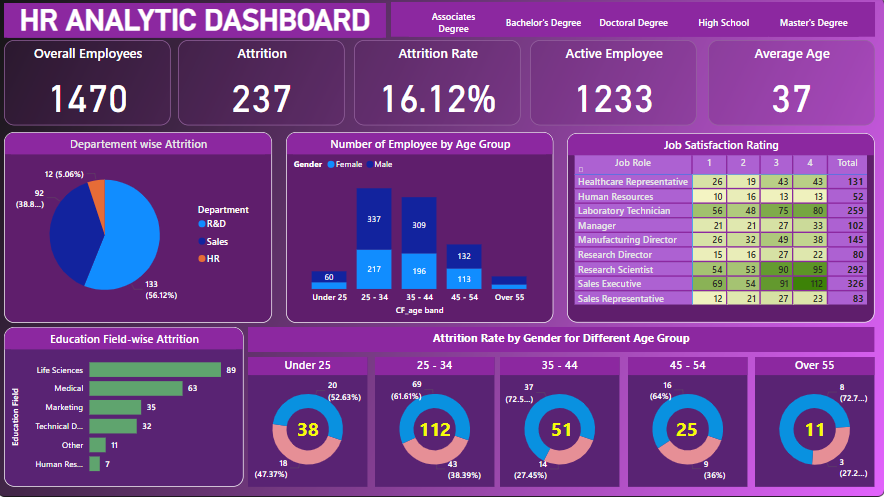

The dashboard page shown, as its layout file describes it:
{"tool":"powerbi","page":{"name":"Page 2","canvas":[1280,720],"ordinal":0},"visuals":[{"type":"cardVisual","title":"Overall Employees","fields":{"Data":["Sum(Table1.Employee Count)"]},"box":[10,61.2,240,122.5],"z":0},{"type":"cardVisual","title":"Attrition","fields":{"Data":["Sum(Table1.Attrition Count)"]},"box":[261.2,61.2,240,122.5],"z":1000},{"type":"cardVisual","title":"Attrition Rate","fields":{"Data":["Table1.Attrition Rate"]},"box":[513.8,61.2,240,122.5],"z":2000},{"type":"cardVisual","title":"Active Employee","fields":{"Data":["Sum(Table1. Active Employee)"]},"box":[767.5,61.2,240,122.5],"z":3000},{"type":"cardVisual","title":"Average Age","fields":{"Data":["Avg(Table1.Age)"]},"box":[1023.8,61.2,240,122.5],"z":4000},{"type":"pieChart","title":"Departement wise Attrition","fields":{"Category":["Table1.Department"],"Y":["Sum(Table1.Attrition Count)"]},"box":[10,194,386,275],"z":5000},{"type":"columnChart","title":"Number of Employee by Age Group","fields":{"Category":["Table1.CF_age band"],"Y":["Sum(Table1.Employee Count)"],"Series":["Table1.Gender"]},"box":[416,194,385,275],"z":6000},{"type":"pivotTable","title":"Job Satisfaction Rating","fields":{"Rows":["Table1.Job Role"],"Columns":["Table1.Job Satisfaction"],"Values":["Sum(Table1.Employee Count)"]},"box":[821,196,443,273],"z":7000},{"type":"barChart","title":"Education Field-wise Attrition","fields":{"Category":["Table1.Education Field"],"Y":["Sum(Table1.Attrition Count)"]},"box":[10,475,345,230],"z":8000},{"type":"donutChart","title":"Under 25","fields":{"Y":["Sum(Table1.Attrition Count)"],"Category":["Table1.Gender"],"Series":["Table1.CF_age band"]},"box":[362,518,172,187],"z":9000},{"type":"donutChart","title":"25 - 34","fields":{"Y":["Sum(Table1.Attrition Count)"],"Category":["Table1.Gender"],"Series":["Table1.CF_age band"]},"box":[544,518,172,187],"z":10000},{"type":"donutChart","title":"35 - 44","fields":{"Y":["Sum(Table1.Attrition Count)"],"Category":["Table1.Gender"],"Series":["Table1.CF_age band"]},"box":[725,518,172,187],"z":11000},{"type":"textbox","box":[362,475,902,36],"z":12000},{"type":"donutChart","title":"45 - 54","fields":{"Y":["Sum(Table1.Attrition Count)"],"Category":["Table1.Gender"],"Series":["Table1.CF_age band"]},"box":[908,518,172,187],"z":13000},{"type":"donutChart","title":"Over 55","fields":{"Y":["Sum(Table1.Attrition Count)"],"Category":["Table1.Gender"],"Series":["Table1.CF_age band"]},"box":[1091.8,518.2,171.8,187.3],"z":14000},{"type":"card","fields":{"Values":["Sum(Table1.Attrition Count)"]},"box":[416.7,599.2,62.5,48.3],"z":15000},{"type":"card","fields":{"Values":["Sum(Table1.Attrition Count)"]},"box":[598.3,599.2,62.5,48.3],"z":16000},{"type":"card","fields":{"Values":["Sum(Table1.Attrition Count)"]},"box":[781.7,599.2,62.5,48.3],"z":17000},{"type":"card","fields":{"Values":["Sum(Table1.Attrition Count)"]},"box":[962.5,599.2,62.5,48.3],"z":18000},{"type":"card","fields":{"Values":["Sum(Table1.Attrition Count)"]},"box":[1145.8,599.2,62.5,48.3],"z":19000},{"type":"textbox","title":"HR ANALYTIC DASHBOARD","box":[10,8,550,50],"z":20000},{"type":"slicer","fields":{"Values":["Table1.Education"]},"box":[566.7,7.8,696.7,50],"z":21000}]}

Visuals, with their boxes in screenshot pixels (x1, y1, x2, y2), scaled from the page's 1280x720 canvas onto the 884x497 screenshot:
"Overall Employees" cardVisual: <region>7, 42, 173, 127</region>
"Attrition" cardVisual: <region>180, 42, 346, 127</region>
"Attrition Rate" cardVisual: <region>355, 42, 521, 127</region>
"Active Employee" cardVisual: <region>530, 42, 696, 127</region>
"Average Age" cardVisual: <region>707, 42, 873, 127</region>
"Departement wise Attrition" pieChart: <region>7, 134, 273, 324</region>
"Number of Employee by Age Group" columnChart: <region>287, 134, 553, 324</region>
"Job Satisfaction Rating" pivotTable: <region>567, 135, 873, 324</region>
"Education Field-wise Attrition" barChart: <region>7, 328, 245, 487</region>
"Under 25" donutChart: <region>250, 358, 369, 487</region>
"25 - 34" donutChart: <region>376, 358, 494, 487</region>
"35 - 44" donutChart: <region>501, 358, 619, 487</region>
textbox: <region>250, 328, 873, 353</region>
"45 - 54" donutChart: <region>627, 358, 746, 487</region>
"Over 55" donutChart: <region>754, 358, 873, 487</region>
card - Sum(Table1.Attrition Count): <region>288, 414, 331, 447</region>
card - Sum(Table1.Attrition Count): <region>413, 414, 456, 447</region>
card - Sum(Table1.Attrition Count): <region>540, 414, 583, 447</region>
card - Sum(Table1.Attrition Count): <region>665, 414, 708, 447</region>
card - Sum(Table1.Attrition Count): <region>791, 414, 834, 447</region>
"HR ANALYTIC DASHBOARD" textbox: <region>7, 6, 387, 40</region>
slicer - Table1.Education: <region>391, 5, 873, 40</region>
